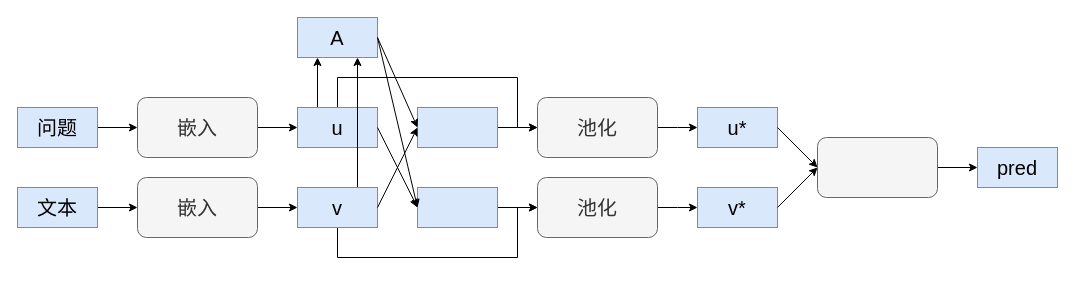
The diagram is 1075 pixels wide and 283 high, and some of its shapes have lost their labels. The shapes that lost their labels are listed below. From the top down, each one's centre as x and y in pixels, then its label:
the point at 457,127: u t
the point at 877,167: 分类
the point at 457,207: v t
